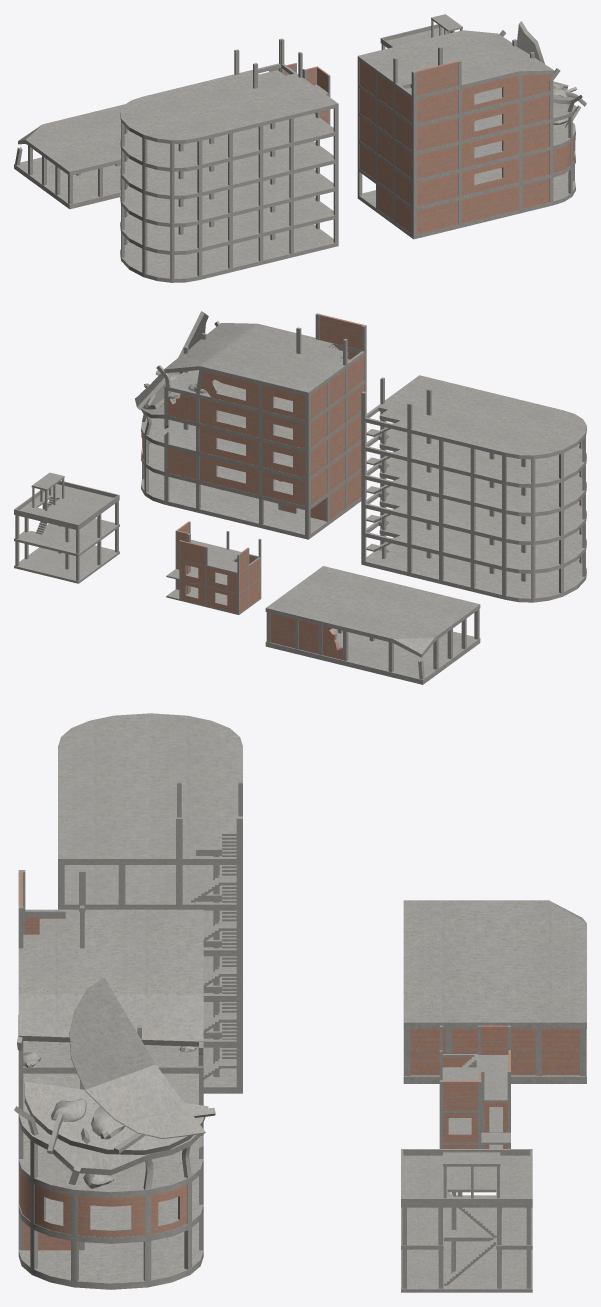
Rendered from construction_pack_low_poly.glb.
The picture shows the model from 3 angles, top to bottom: view 1: azimuth 30°, elevation 25°; view 2: azimuth 150°, elevation 25°; view 3: azimuth 270°, elevation 25°; orthographic projection. The views are drawn at different scales.
Visible parts, largest first — view 1: Construction5, Construction3, Construction2, Construction4, Construction1; view 2: Construction5, Construction3, Construction2, Construction4, Construction1; view 3: Construction3, Construction5, Construction2, Construction4, Construction1.
Part boxes in pixels (left/top/right/bottom): Construction5: left=120, top=38, right=338, bottom=282; Construction3: left=357, top=21, right=586, bottom=239; Construction2: left=14, top=104, right=128, bottom=209; Construction4: left=380, top=14, right=462, bottom=49; Construction1: left=269, top=63, right=330, bottom=124; Construction5: left=361, top=375, right=586, bottom=602; Construction3: left=135, top=311, right=366, bottom=539; Construction2: left=265, top=566, right=480, bottom=684; Construction4: left=14, top=472, right=119, bottom=583; Construction1: left=166, top=521, right=261, bottom=614; Construction3: left=14, top=870, right=215, bottom=1289; Construction5: left=58, top=713, right=242, bottom=1093; Construction2: left=403, top=900, right=586, bottom=1083; Construction4: left=401, top=1149, right=532, bottom=1292; Construction1: left=439, top=1025, right=510, bottom=1148.
Size of the model in its own units: 61.67 by 22.88 by 43.24.
Materials: 1 (1 with a texture image).
